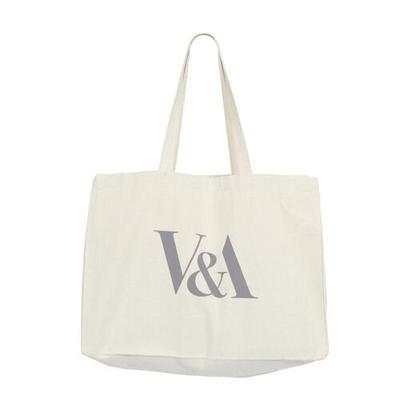not trash: (76, 27, 334, 371)
